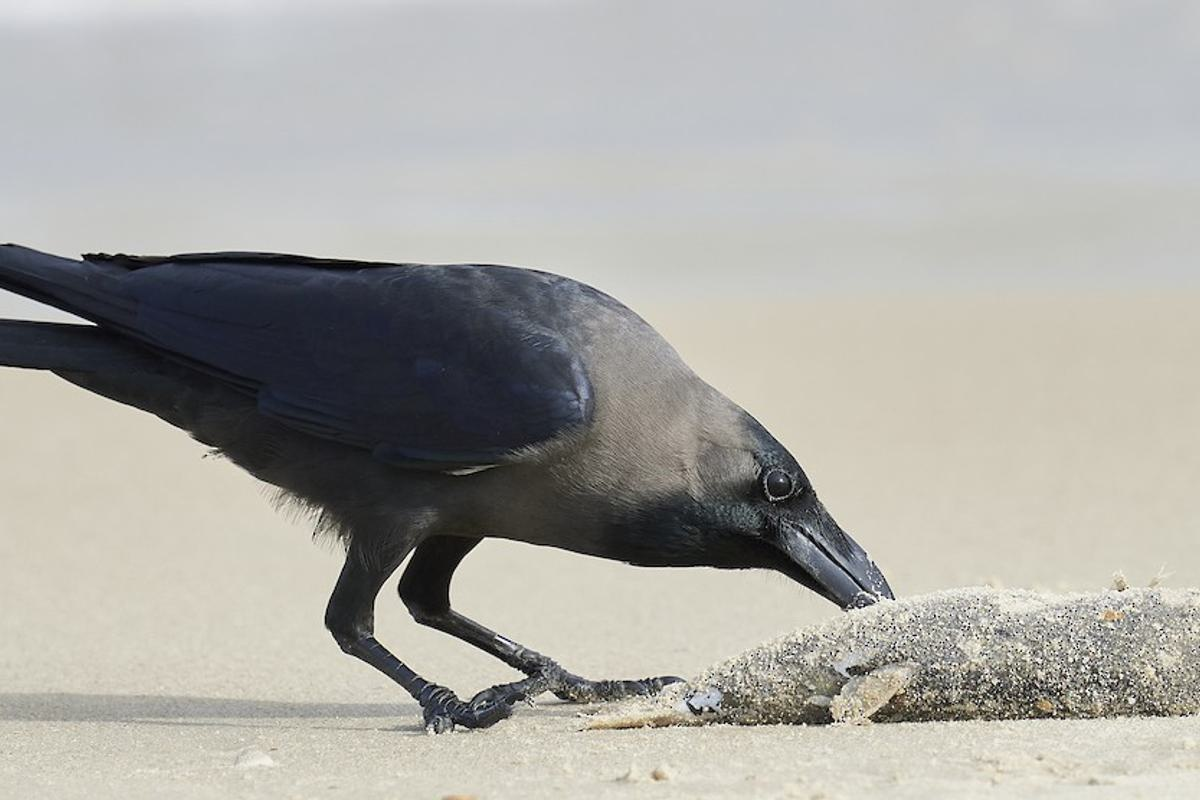crow: (1, 215, 913, 725)
